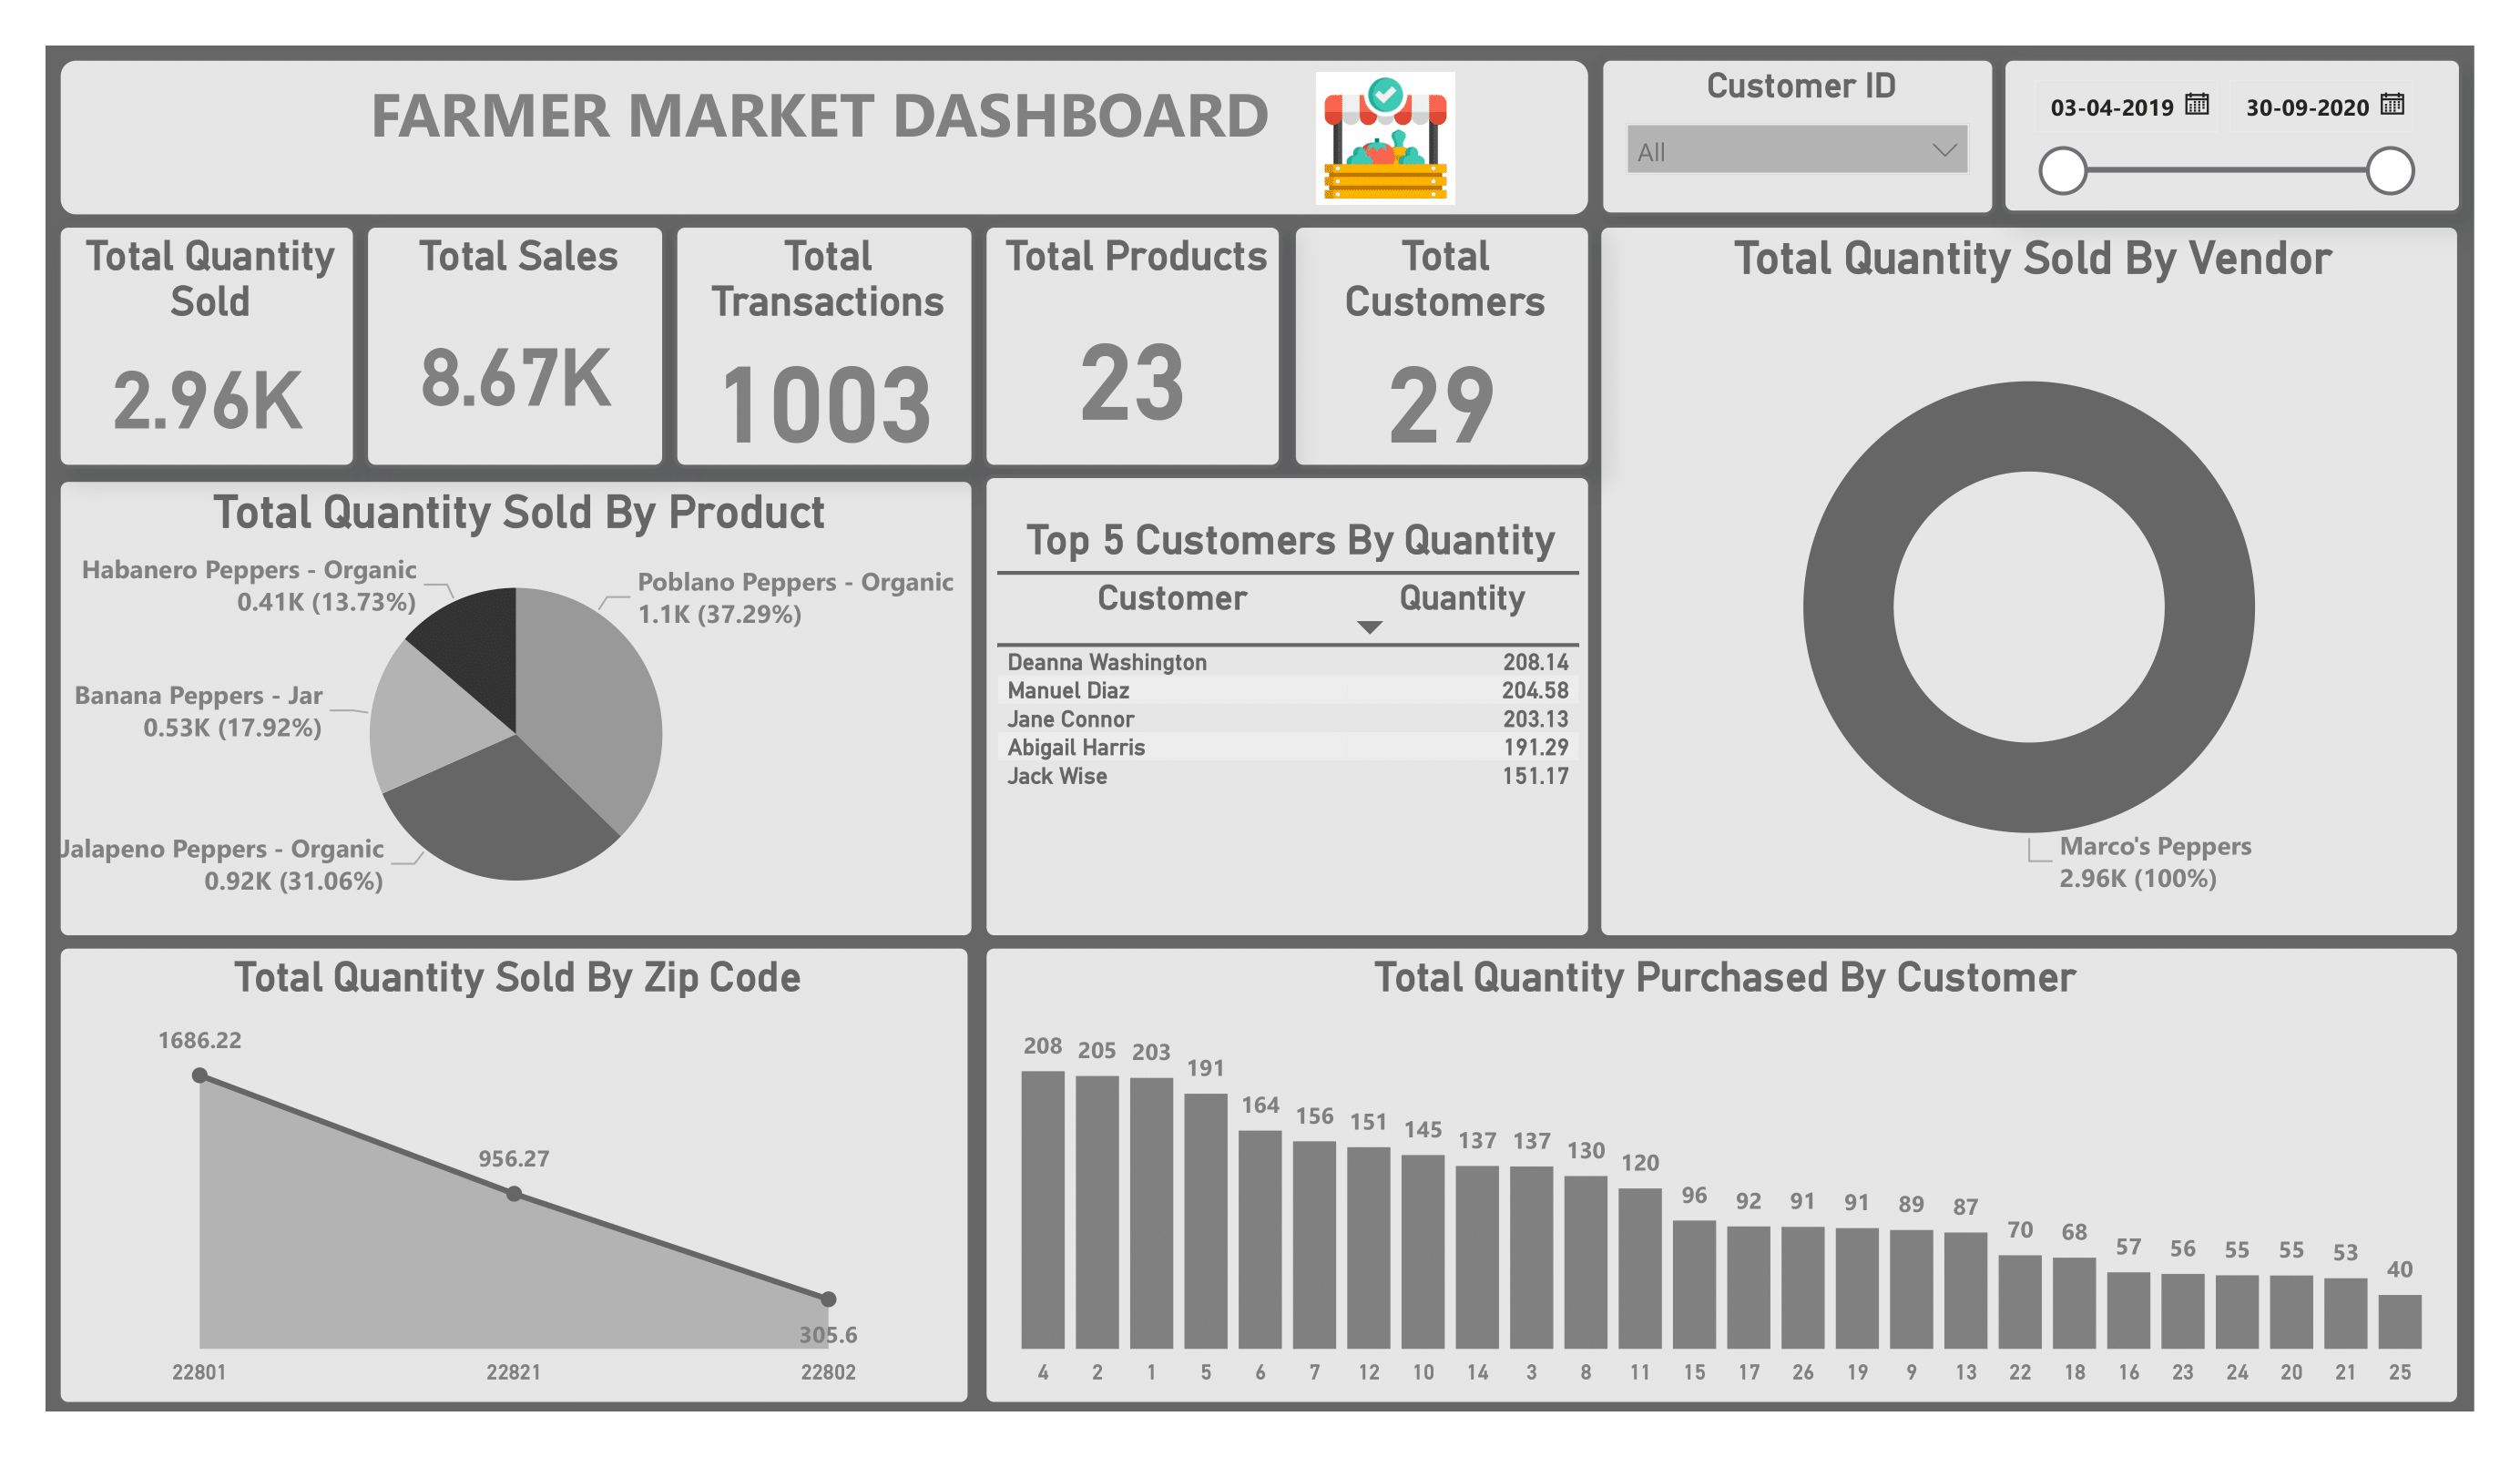

The dashboard page shown, as its layout file describes it:
{"tool":"powerbi","page":{"name":"Quantity Wise Analysis","canvas":[1280,720],"ordinal":0},"visuals":[{"type":"columnChart","title":"Total Quantity Purchased By Customer","fields":{"Category":["customer_purchases.customer_id"],"Y":["customer_purchases.quantity"]},"box":[493.9,473.8,779,243.4],"z":0},{"type":"slicer","title":"Customer ID","fields":{"Values":["customer_purchases.customer_id"]},"box":[818.7,6,209,84.4],"z":1000},{"type":"areaChart","title":"Total Quantity Sold By Zip Code","fields":{"Category":["customer.customer_zip"],"Y":["customer_purchases.quantity"]},"box":[5.8,473.8,482.4,243.4],"z":2000},{"type":"pieChart","title":"Total Quantity Sold By Product","fields":{"Category":["product.product_name"],"Y":["customer_purchases.quantity"]},"box":[5.8,227.5,483.8,243.4],"z":3000},{"type":"donutChart","title":"Total Quantity Sold By Vendor","fields":{"Y":["customer_purchases.quantity"],"Category":["vendor.vendor_name"]},"box":[817.9,93.6,455,377.3],"z":4000},{"type":"textbox","box":[5.8,5.8,809.3,85],"z":5000},{"type":"image","box":[656.6,8.6,99.4,80.6],"z":6000},{"type":"card","title":"Total Customers","fields":{"Values":["customer_purchases.customer_id"]},"box":[656.6,93.6,158.4,129.6],"z":7000},{"type":"card","title":"Total Quantity Sold","fields":{"Values":["customer_purchases.Total_Quantity"]},"box":[5.8,93.6,158.4,129.6],"z":8000},{"type":"card","title":"Total Sales","fields":{"Values":["customer_purchases.Total_Sales"]},"box":[168.5,93.6,158.4,129.6],"z":9000},{"type":"card","title":"Total Transactions","fields":{"Values":["customer_purchases.Total Transactions"]},"box":[331.2,93.6,158.4,129.6],"z":10000},{"type":"card","title":"Total Products","fields":{"Values":["product.product_name"]},"box":[493.9,93.6,158.4,129.6],"z":11000},{"type":"tableEx","title":"Top 5 Customers By Quantity","fields":{"Values":["customer.Customer_name","customer_purchases.quantity"]},"box":[493.9,226.1,321.1,244.8],"z":12000},{"type":"slicer","fields":{"Values":["customer_purchases.market_date"]},"box":[1031.2,6,242.7,82.9],"z":13000}]}

Visuals, with their boxes on the page's 1280x720 design canvas (x1, y1, x2, y2). These are canvas units, not pixel positions in the 2520x1457 screenshot, which may show the page scaled, cropped or inside an application window:
"Total Quantity Purchased By Customer" columnChart: rect(494, 474, 1273, 717)
"Customer ID" slicer: rect(819, 6, 1028, 90)
"Total Quantity Sold By Zip Code" areaChart: rect(6, 474, 488, 717)
"Total Quantity Sold By Product" pieChart: rect(6, 228, 490, 471)
"Total Quantity Sold By Vendor" donutChart: rect(818, 94, 1273, 471)
textbox: rect(6, 6, 815, 91)
image: rect(657, 9, 756, 89)
"Total Customers" card: rect(657, 94, 815, 223)
"Total Quantity Sold" card: rect(6, 94, 164, 223)
"Total Sales" card: rect(168, 94, 327, 223)
"Total Transactions" card: rect(331, 94, 490, 223)
"Total Products" card: rect(494, 94, 652, 223)
"Top 5 Customers By Quantity" tableEx: rect(494, 226, 815, 471)
slicer - customer_purchases.market_date: rect(1031, 6, 1274, 89)
